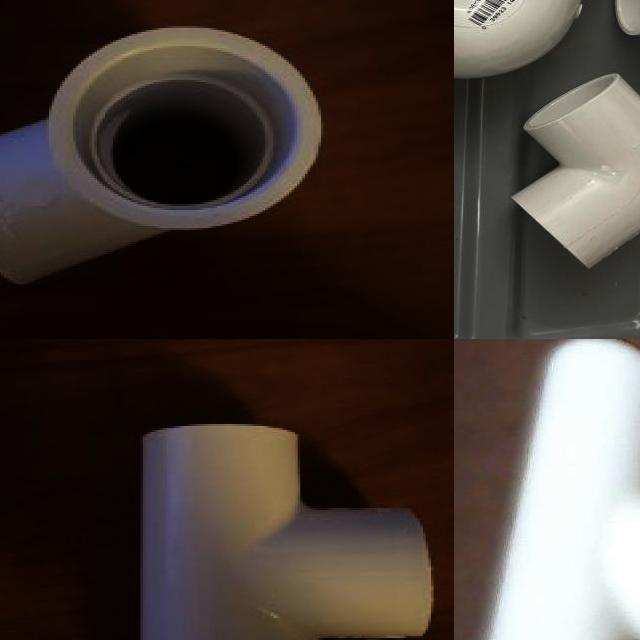L Joint: (511, 75, 640, 271), (454, 0, 586, 81)
T Joint: (0, 28, 324, 284), (137, 424, 435, 640), (478, 339, 640, 640)
